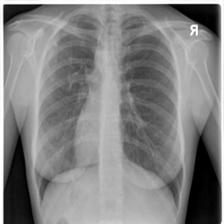tuberculosis: (28, 8, 188, 212)
